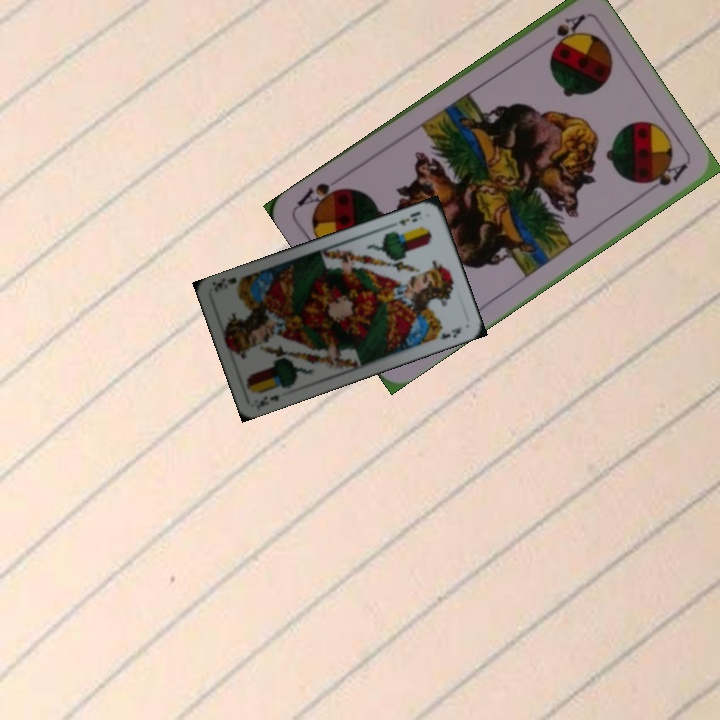EK: (252, 390, 283, 412), (395, 207, 424, 229)
SA: (549, 10, 588, 49)
